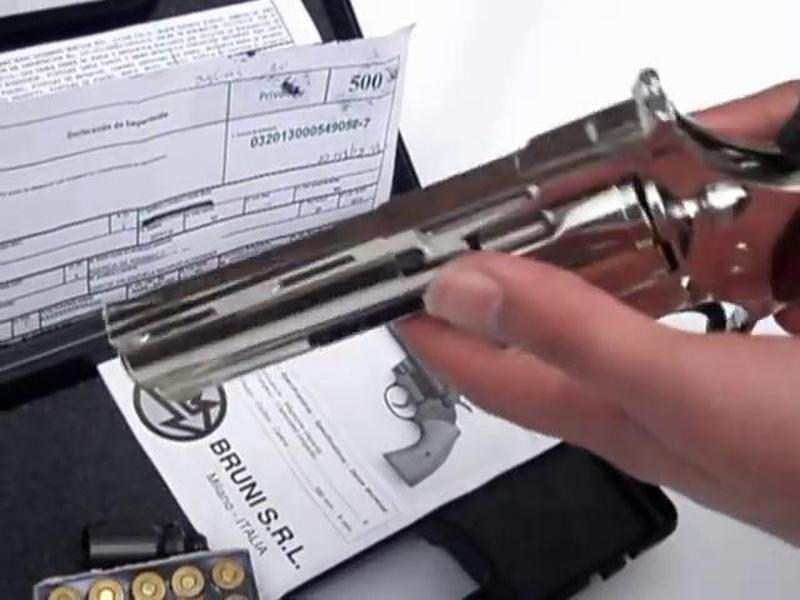Revolver: (79, 52, 793, 460)
